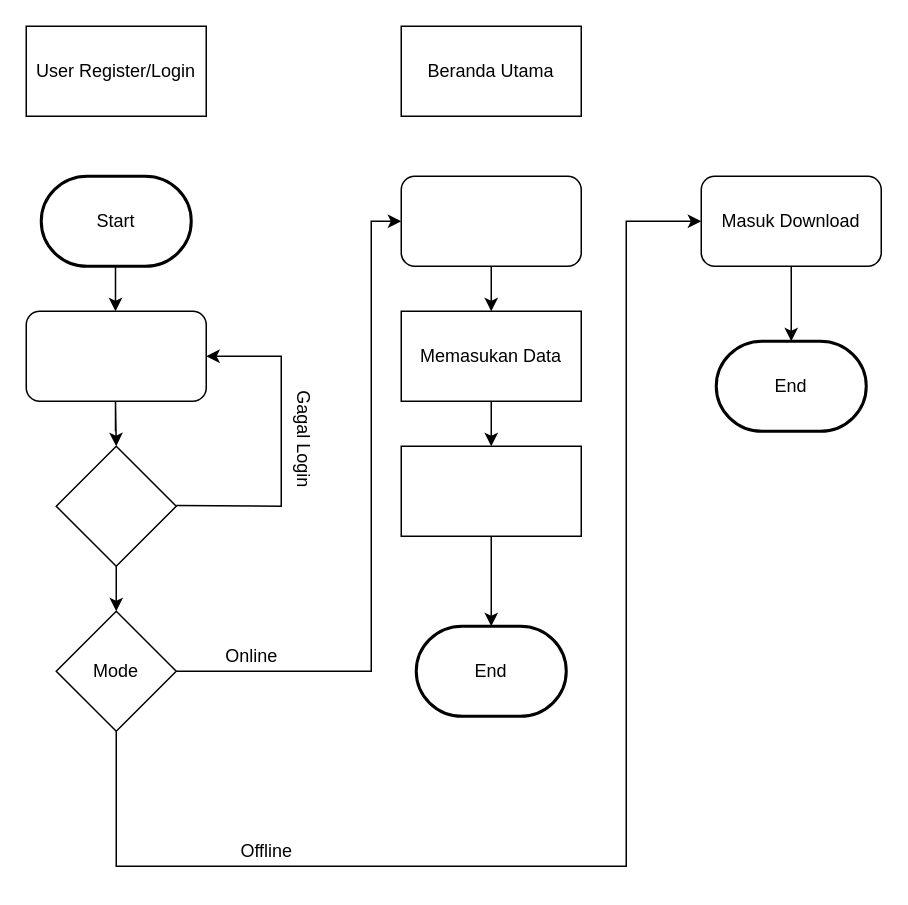
This 908x905 diagram has some shape labels left out. The shapes that lost their labels are listed below. From the top down, each one's box as (x1, y1, x2, y2) in pixels, then its label:
(400, 175, 581, 266): Masuk Beranda
(25, 310, 206, 401): Pilih Email
(55, 445, 176, 566): Validasi Login
(400, 445, 581, 536): Tampilan Data
